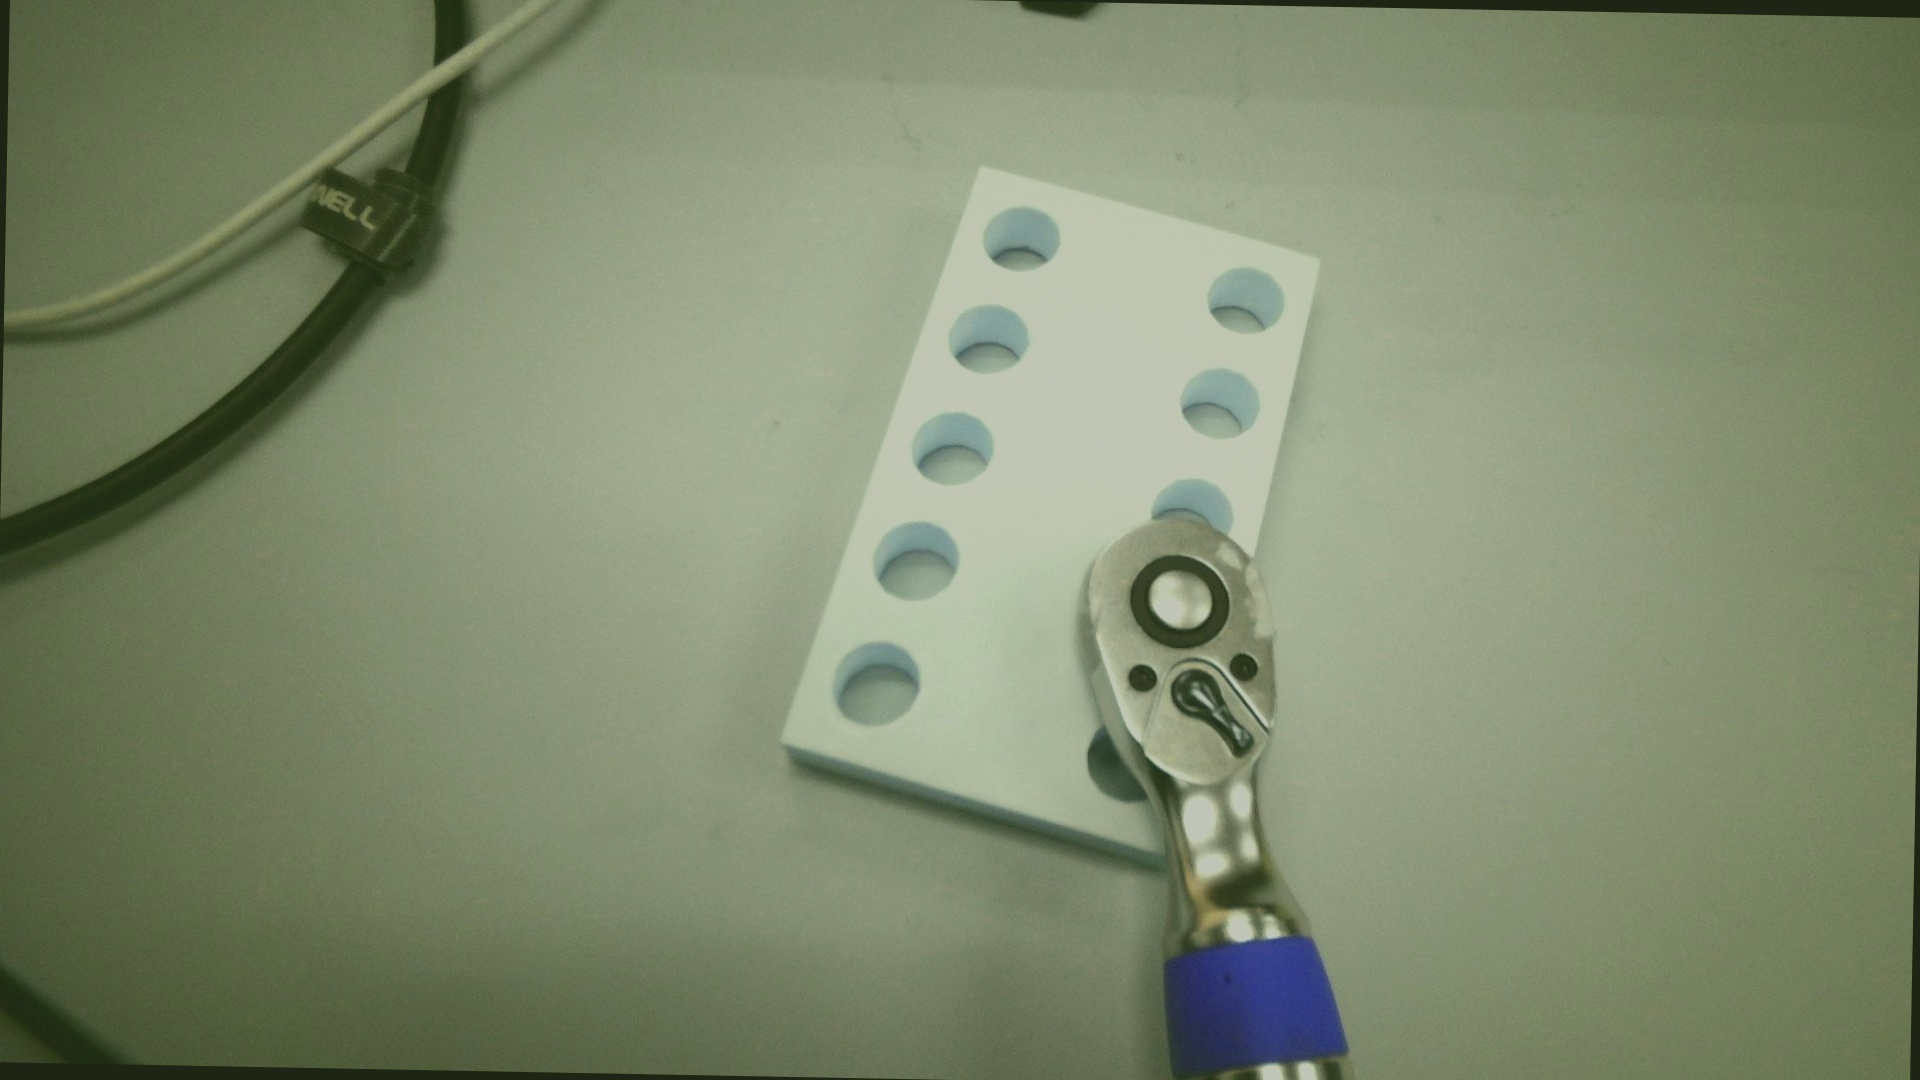hole: (831, 640, 920, 727), (866, 521, 961, 603), (907, 410, 996, 487), (945, 303, 1030, 376), (1204, 265, 1284, 336), (1180, 368, 1261, 439), (1087, 723, 1156, 804), (982, 206, 1063, 272), (1151, 477, 1236, 539)
obj: (777, 160, 1323, 876)
wrench: (1127, 553, 1232, 653)
